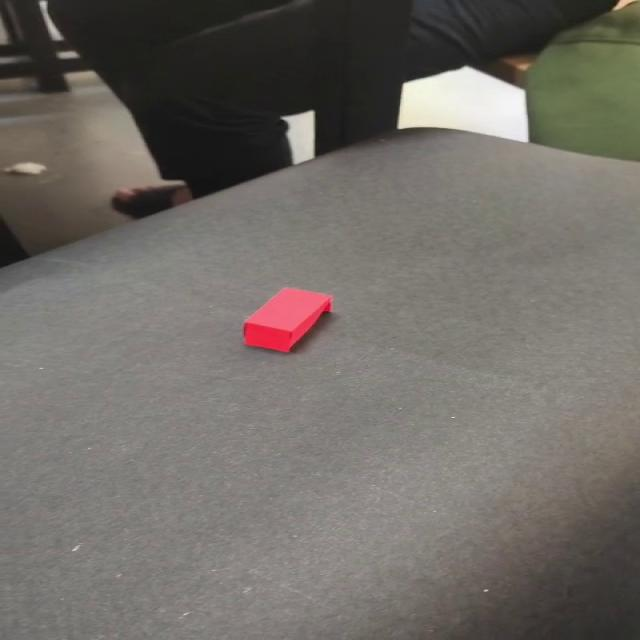red block: (242, 286, 334, 353)
